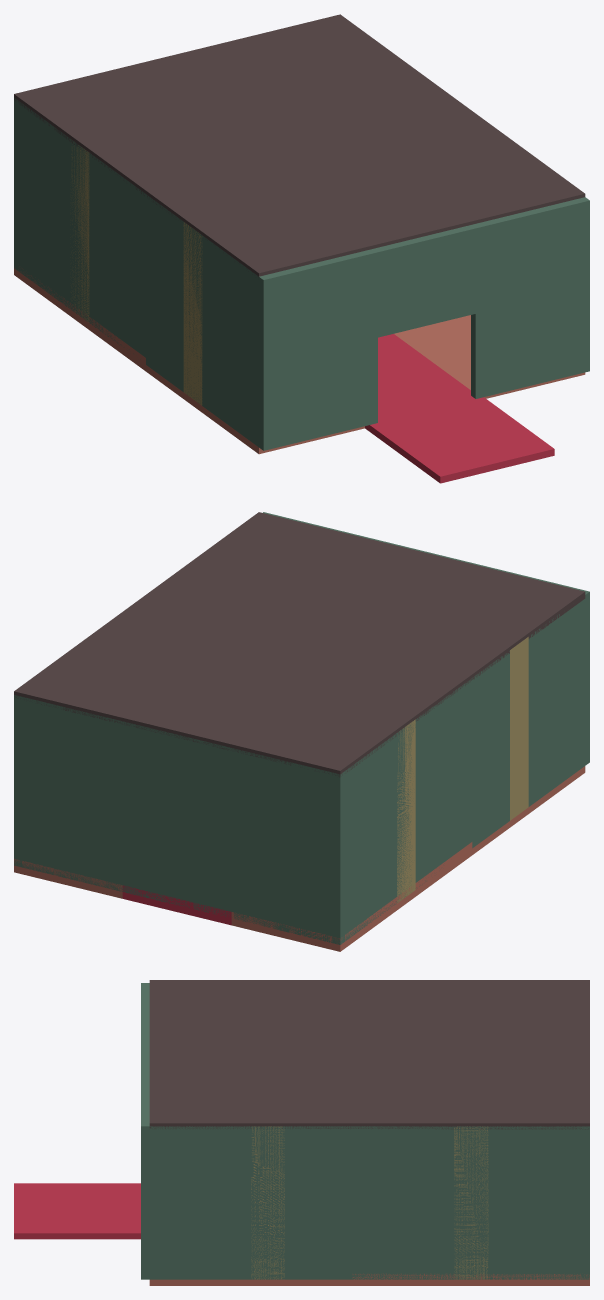
The model's file is hotel_01.glb.
3 views of the same model, one above another, from view 1: azimuth 30°, elevation 25°; view 2: azimuth 150°, elevation 25°; view 3: azimuth 270°, elevation 25° (orthographic). The views are drawn at different scales.
Visible parts, largest first — view 1: Cube.016; view 2: Cube.016; view 3: Cube.016.
Part boxes in pixels (x1,y1,x2,y2): Cube.016: (14, 14, 589, 483); Cube.016: (14, 512, 589, 951); Cube.016: (14, 980, 589, 1285).
Bounding box in the file's own units: 20 × 10.6 × 34.
Materials: 1 (1 with a texture image).
